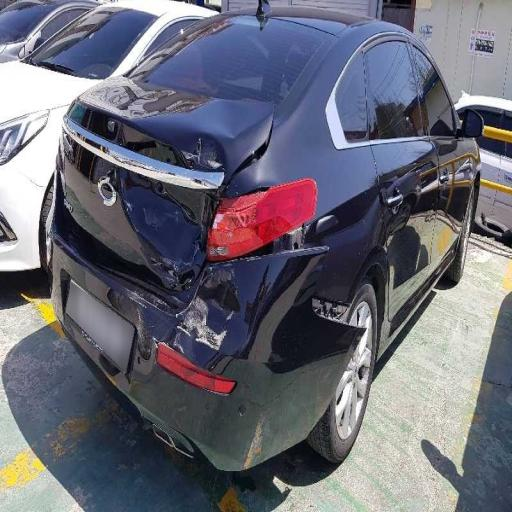dent: (108, 133, 283, 434)
